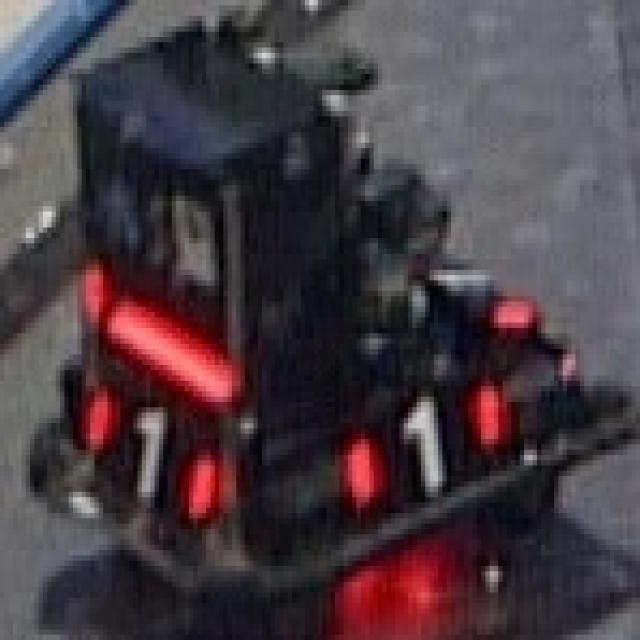R1: (343, 376, 502, 502), (82, 386, 215, 513)
